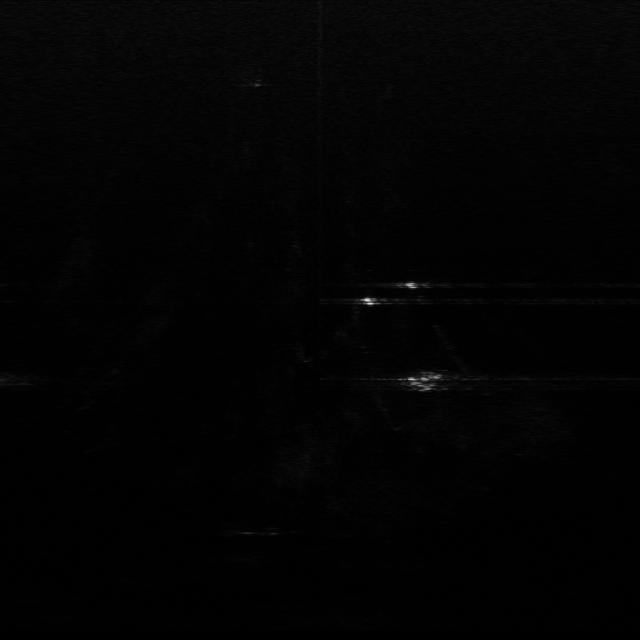rov: (403, 372, 446, 394)
